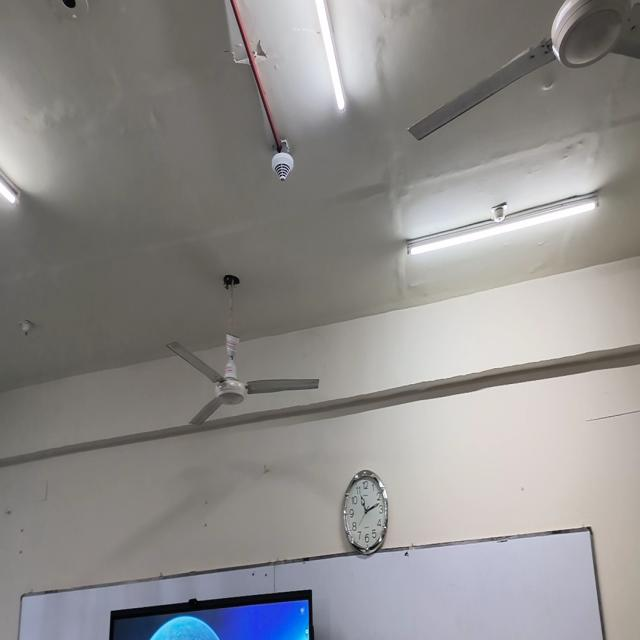Digital board: (110, 590, 314, 639)
Light: (406, 193, 598, 255), (315, 0, 345, 111), (0, 169, 19, 203)
